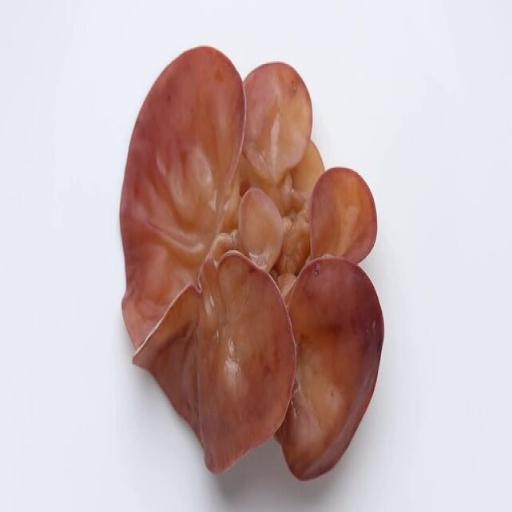mushroom: (118, 41, 394, 494)
